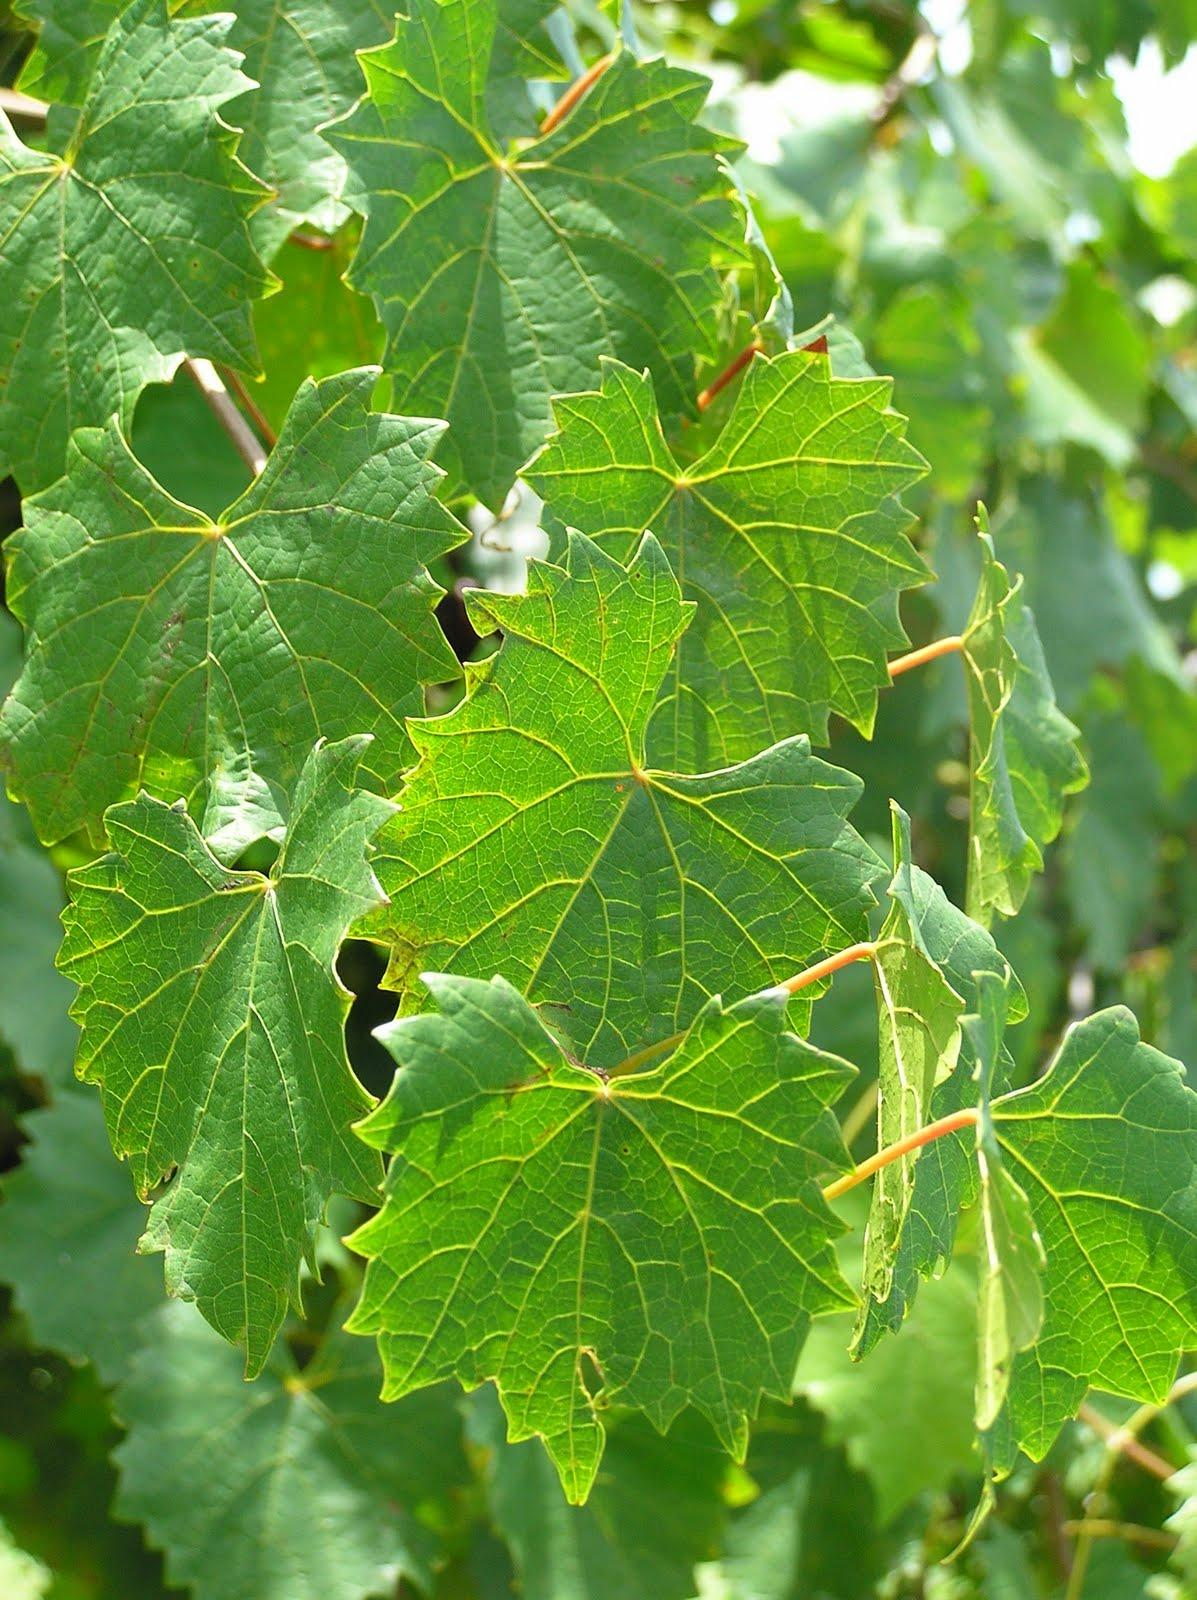grape leaf black rot: (361, 540, 912, 1125), (317, 974, 866, 1525), (53, 715, 404, 1411), (312, 1, 761, 517), (8, 349, 451, 858), (510, 338, 933, 765), (958, 989, 1197, 1548), (1, 13, 263, 500), (850, 791, 1044, 1396), (943, 491, 1140, 977)
